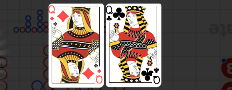9D: (96, 68, 104, 85)
